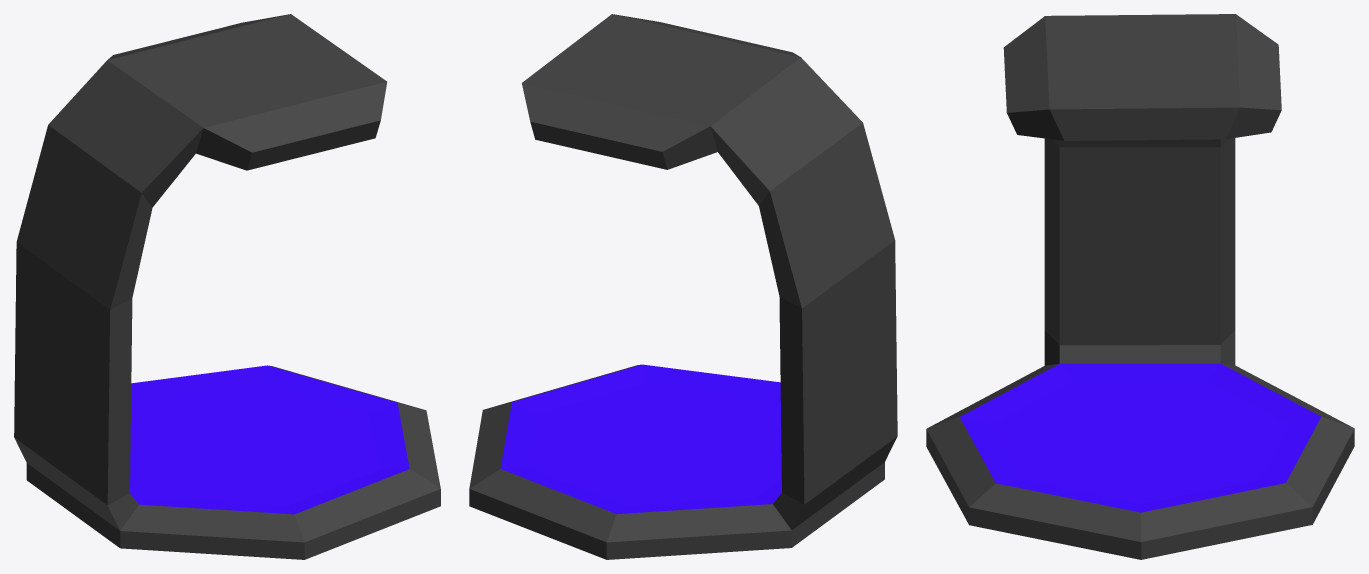
Rendered from Teleporter.glb.
3 views of the same model, side by side, from view 1: azimuth 30°, elevation 25°; view 2: azimuth 150°, elevation 25°; view 3: azimuth 270°, elevation 25° (orthographic). The views are drawn at different scales.
Visible parts, largest first — view 1: Teleporter; view 2: Teleporter; view 3: Teleporter.
Boxes of the visible parts, <box> form: Teleporter: <box>14,14,440,559</box>; Teleporter: <box>469,14,897,559</box>; Teleporter: <box>926,14,1354,559</box>.
Bounding box in the file's own units: 3.94 × 4.11 × 3.9.
